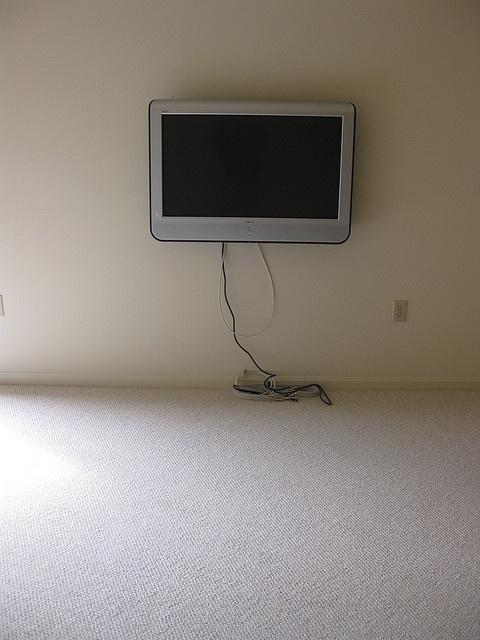AIO PC-Monitor-TV: (147, 97, 355, 244)
